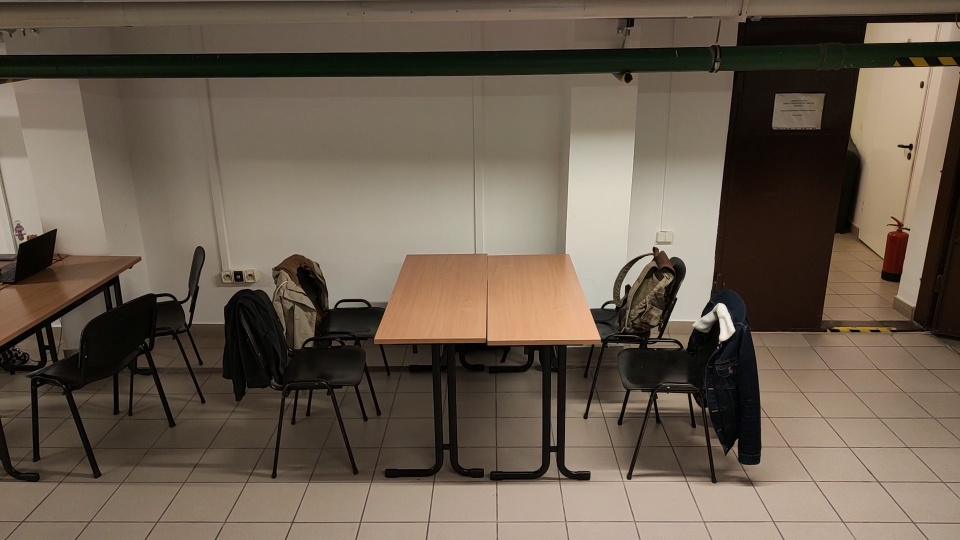chair: (216, 287, 372, 481), (616, 287, 764, 489), (26, 292, 177, 485), (270, 252, 391, 422), (583, 248, 688, 425), (125, 246, 210, 418)
table: (371, 251, 604, 489)
